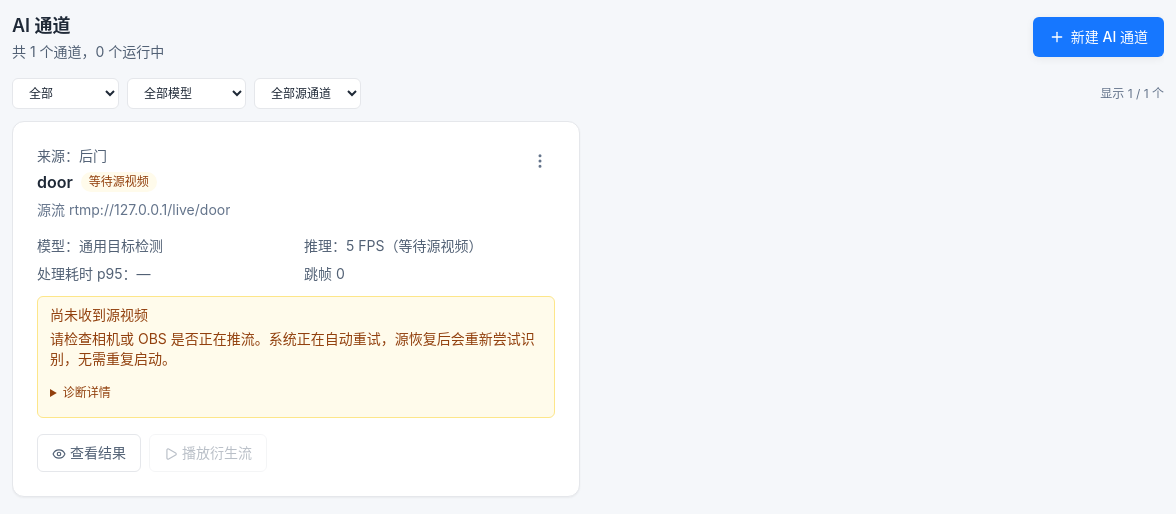
Test: AiChannelsPage › 缺源卡片和状态筛选一致，独立查询不受接入管理搜索影响
The width and height of the screenshot is (1176, 514).
Expected: the message shows "系统正在自动重试", left=50, top=330, right=535, bottom=367
Select "异常" in the 1st dropdown. click: (66, 94)
box: left=12, top=78, right=119, bottom=109
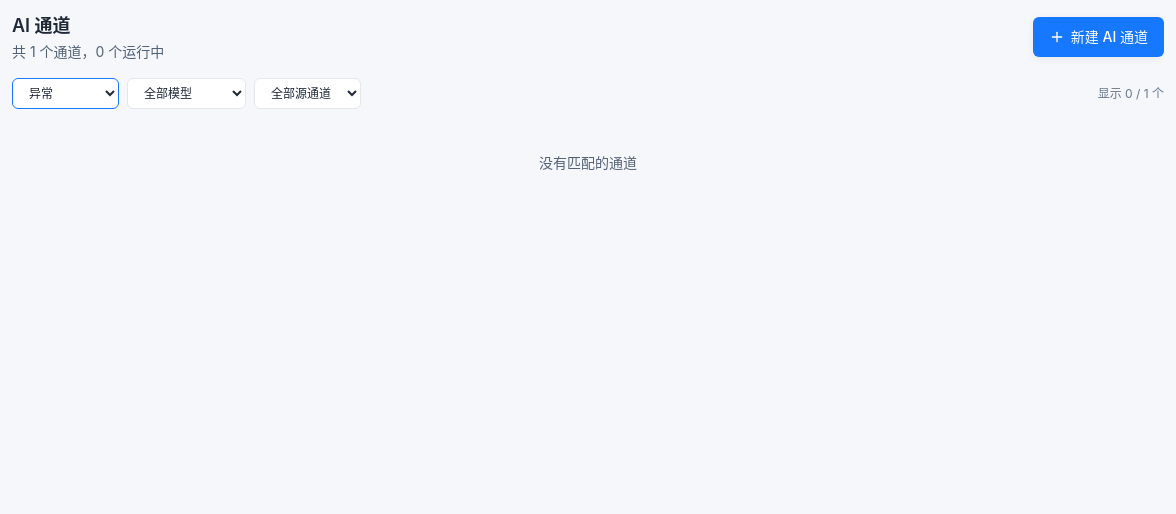
Expected: the text "door" is gone
Select "等待源视频" in the 1st dropdown. click: (66, 94)
box: left=12, top=78, right=119, bottom=109
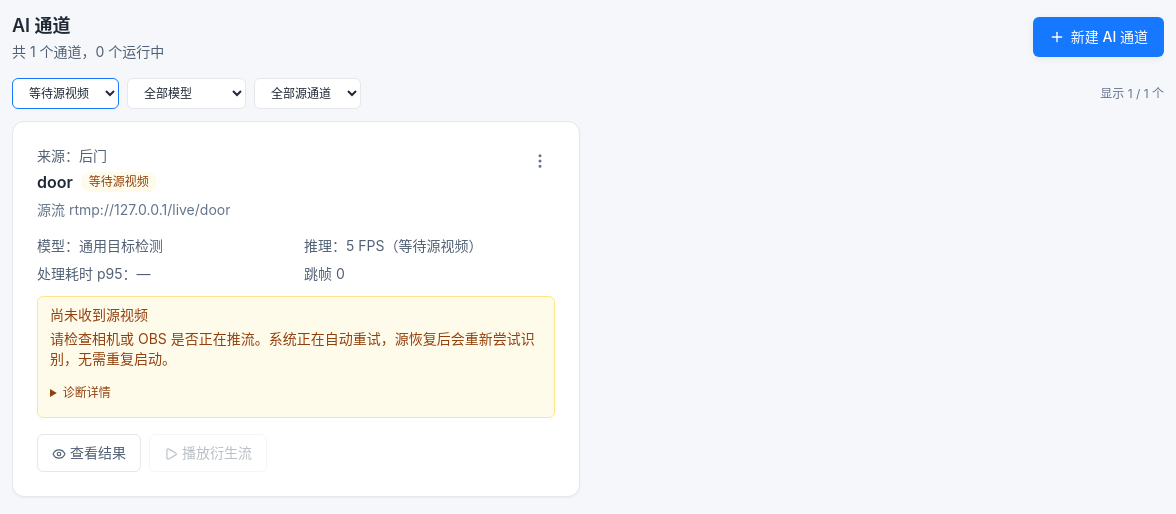
Expected: the text "door" is shown, left=37, top=170, right=73, bottom=194
